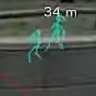hacks_2: (45, 13, 65, 52), (27, 27, 42, 64)
